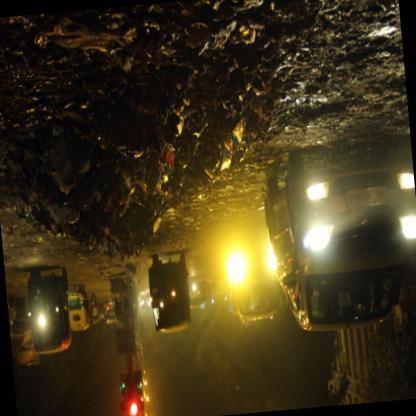Garbage: (0, 0, 320, 159), (65, 0, 258, 252), (82, 121, 226, 264), (142, 35, 244, 176), (64, 110, 170, 242), (261, 0, 360, 100), (4, 146, 86, 262), (119, 166, 221, 254), (184, 92, 260, 202), (2, 13, 70, 125), (104, 154, 150, 270), (41, 73, 72, 171), (34, 172, 64, 247), (8, 106, 43, 166), (98, 86, 120, 135), (7, 194, 16, 223)
